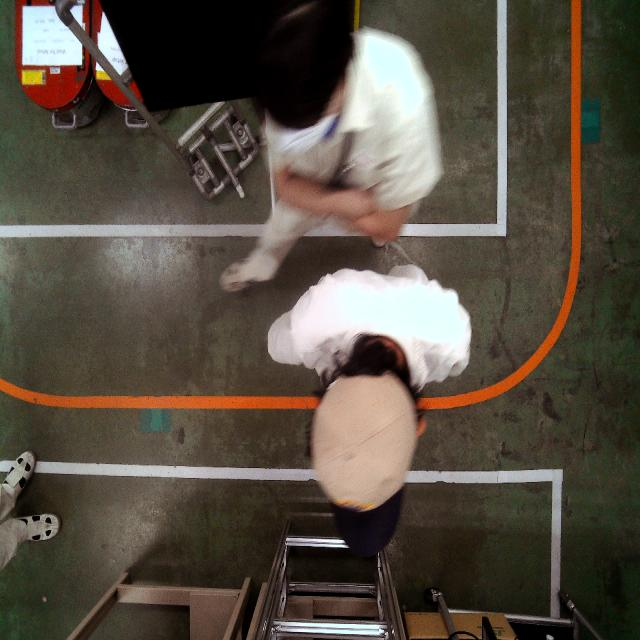h: (310, 366, 414, 506)
